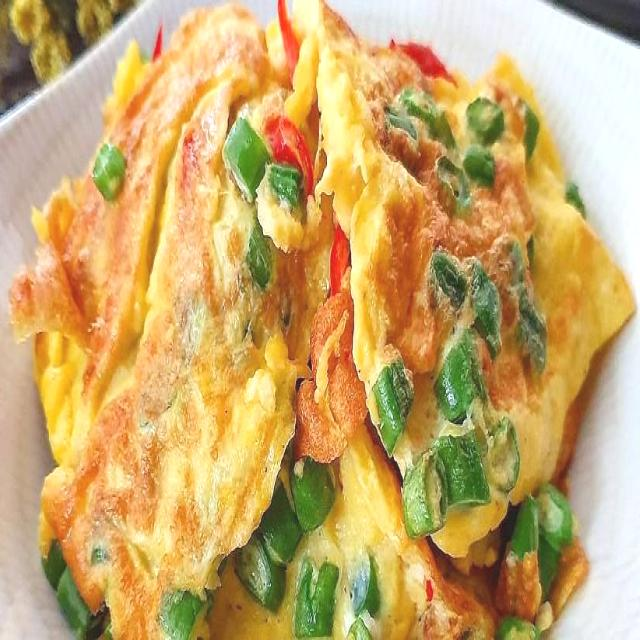omelette: (28, 22, 607, 592)
